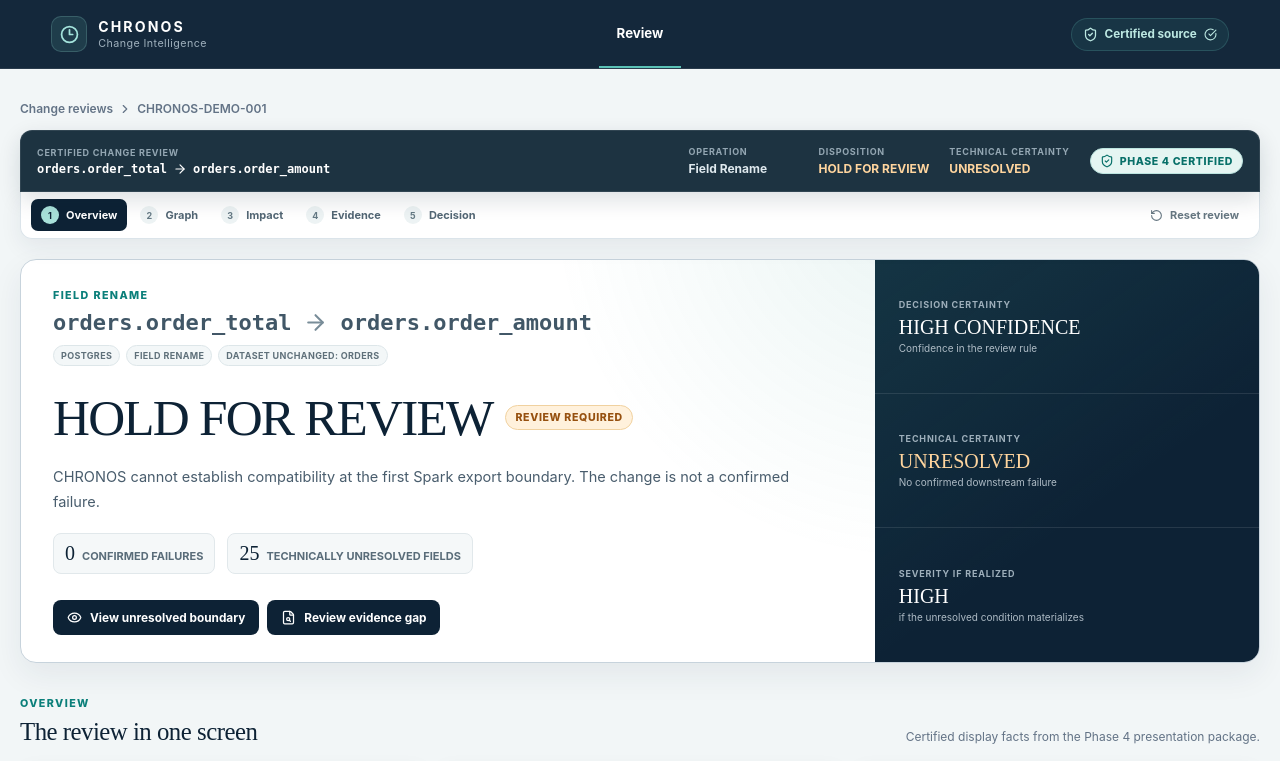
Scenario: certified change review workflow › focuses the certified UNKNOWN root boundary from the overview
This screenshot has width=1280, height=761.
Step 1. Click the button "View unresolved boundary" → point(156, 618), box [53, 600, 259, 635]
(page scrolled)
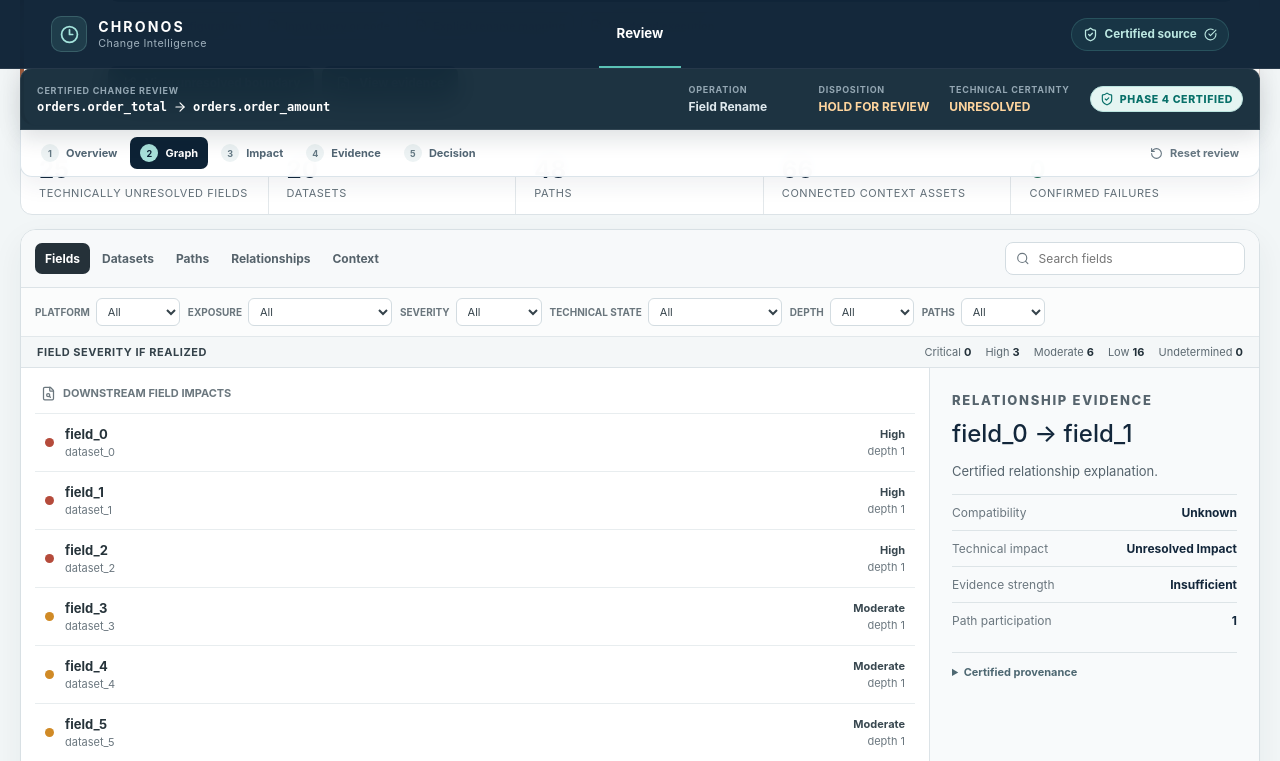
Result: the text "Relationship evidence" is shown at [952, 392, 1153, 408]
